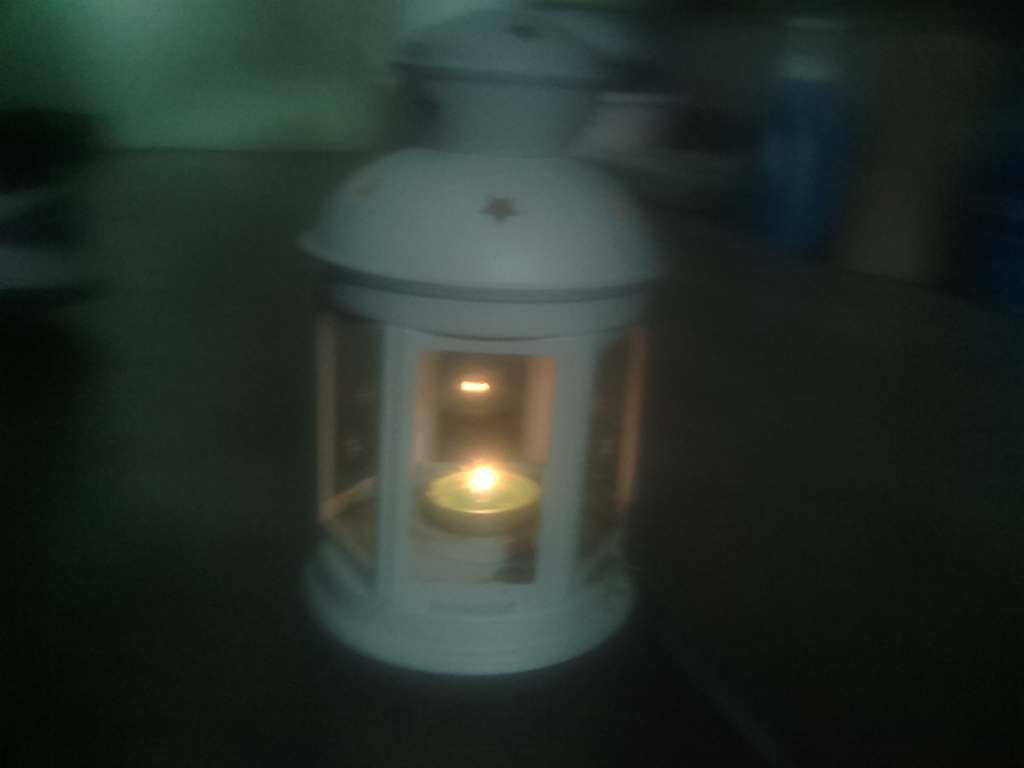fire: (428, 441, 533, 530)
